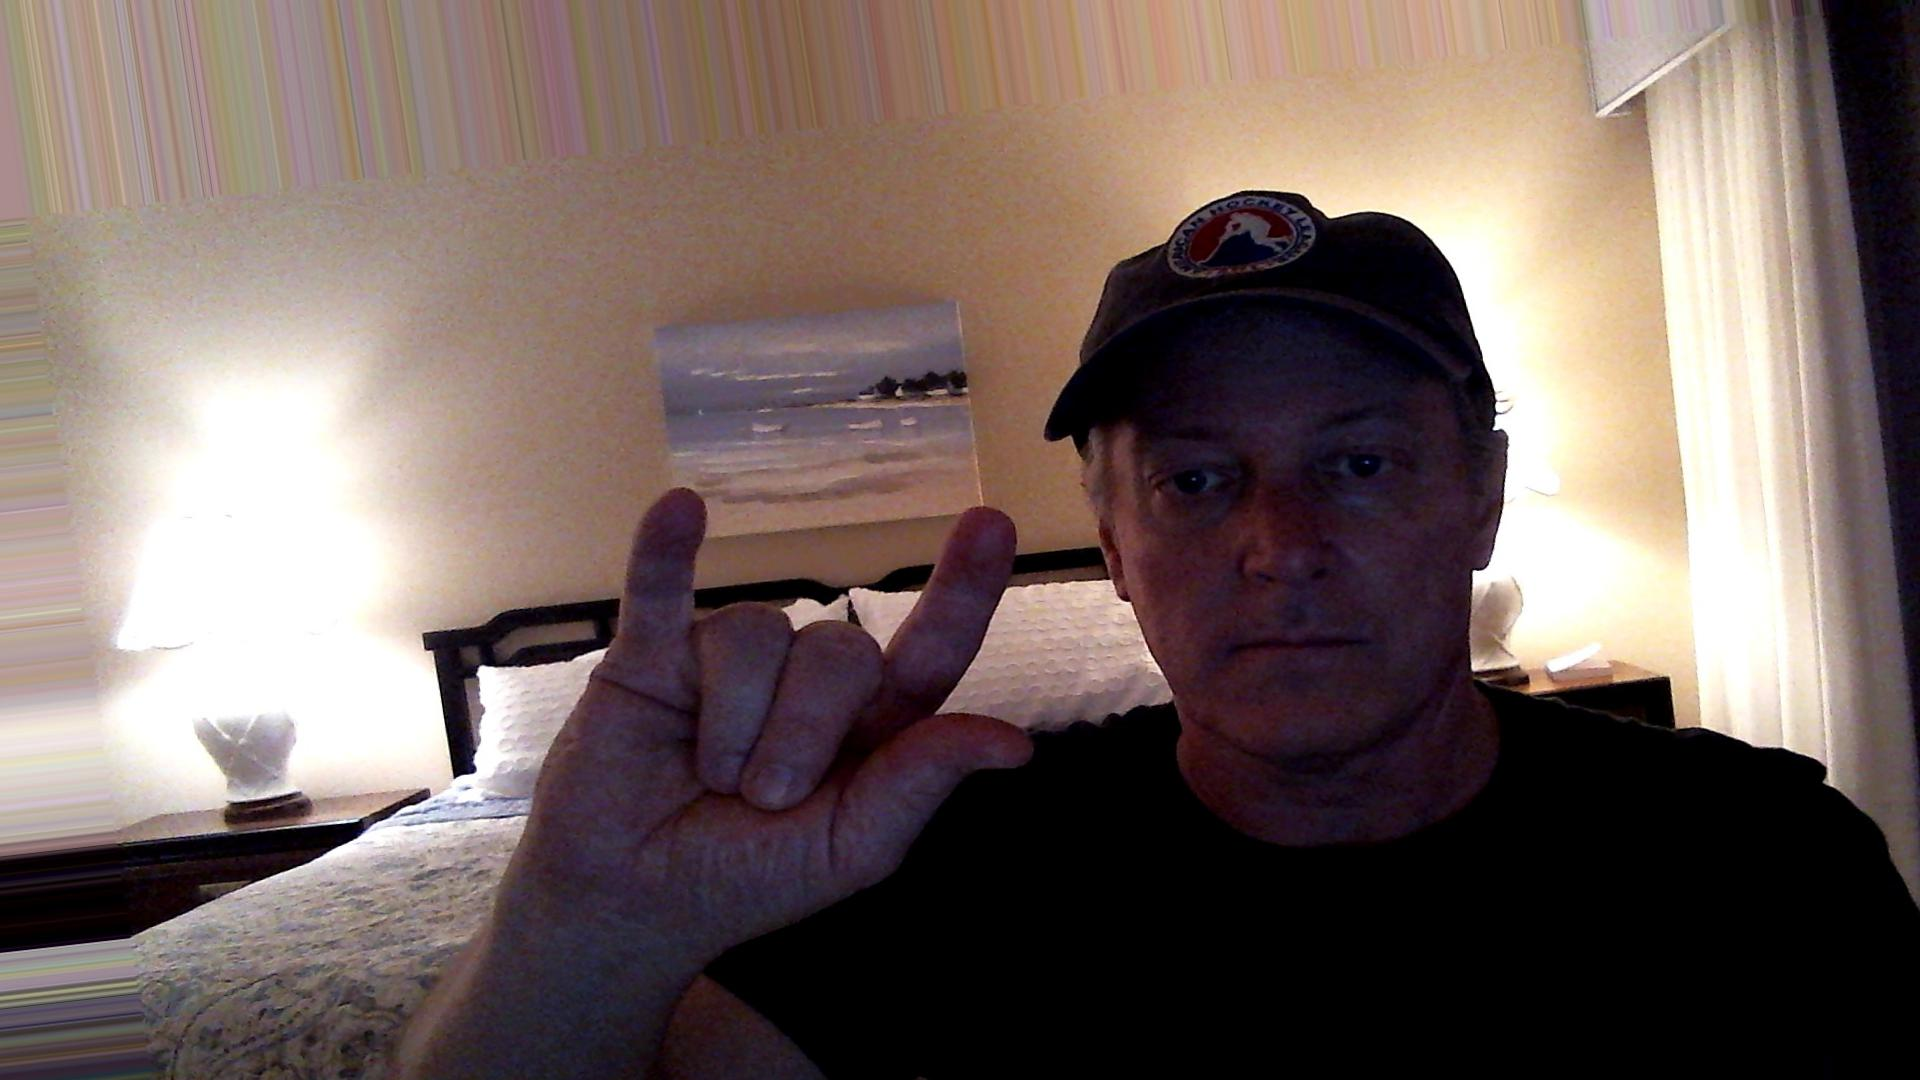I Love You: (506, 454, 1077, 932)
